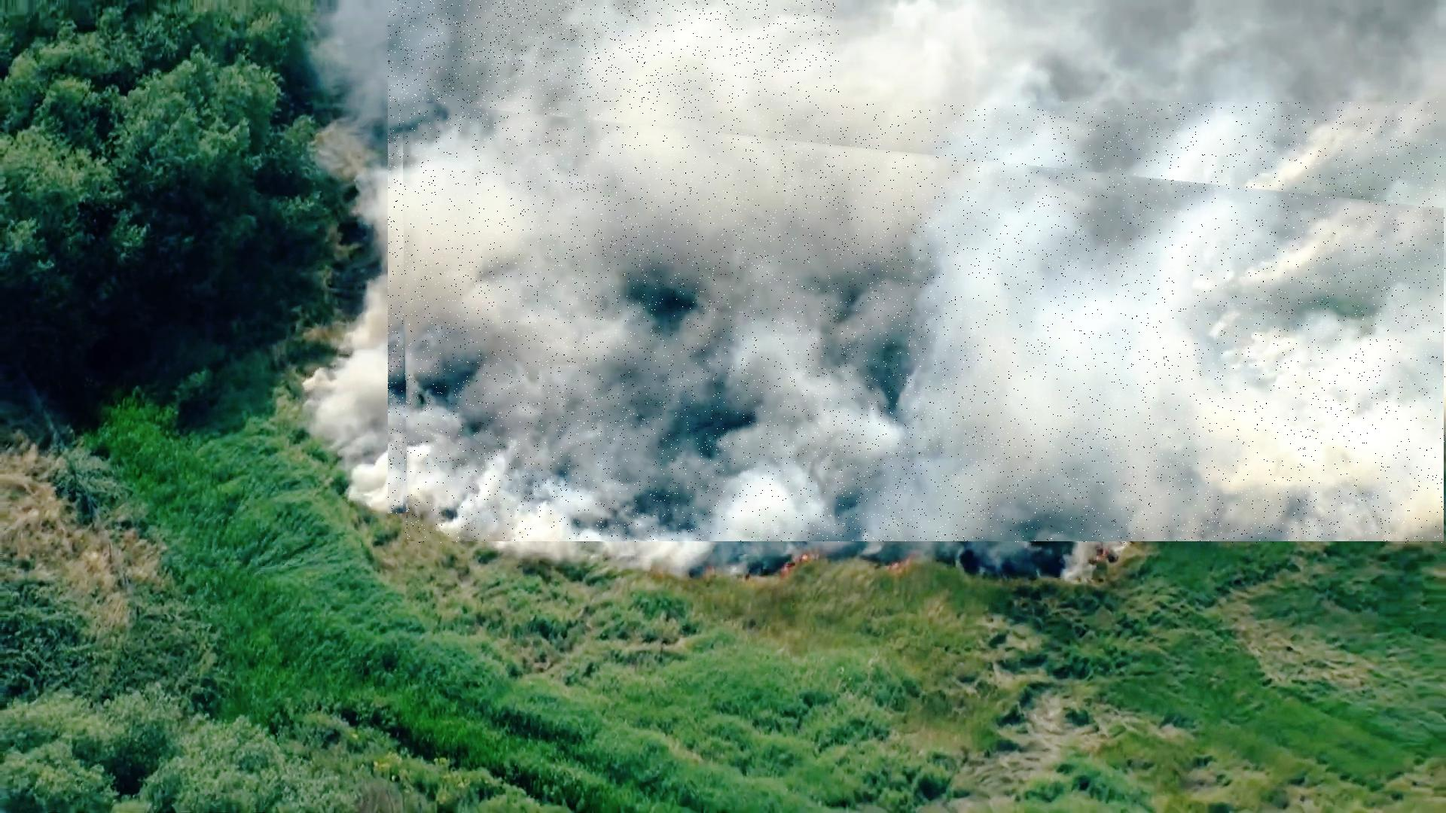smoke: (403, 102, 1446, 544), (388, 0, 840, 514)
